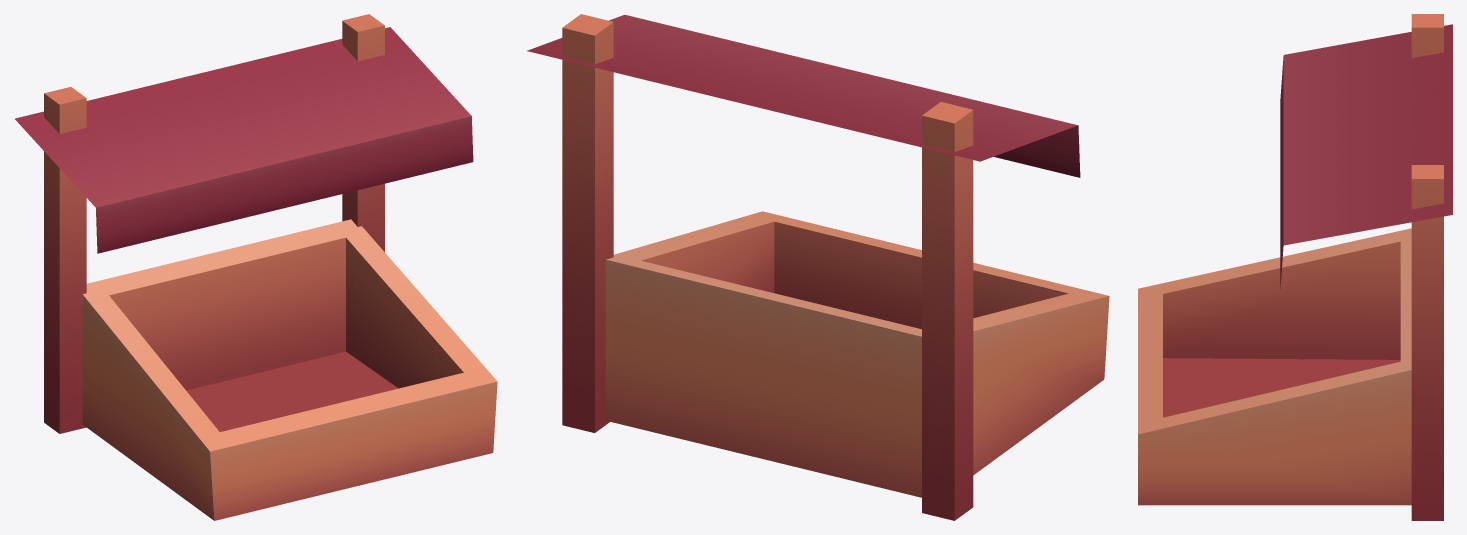
Rendered from Mdl_Stall.fbx.
3 views of the same model, side by side, from view 1: azimuth 30°, elevation 25°; view 2: azimuth 150°, elevation 25°; view 3: azimuth 270°, elevation 25° (orthographic). The views are drawn at different scales.
Visible parts, largest first — view 1: Stall; view 2: Stall; view 3: Stall.
Boxes of the visible parts, x1,y1,x2,y2 form: Stall: (15,14,497,520); Stall: (527,14,1109,520); Stall: (1138,14,1452,520).
Size of the model in its own units: 268 by 224 by 187.
